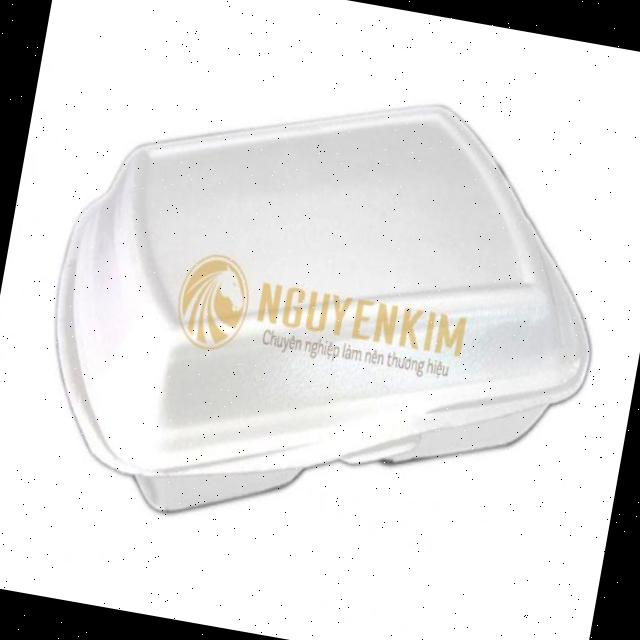styrofoam: (19, 39, 630, 582)
